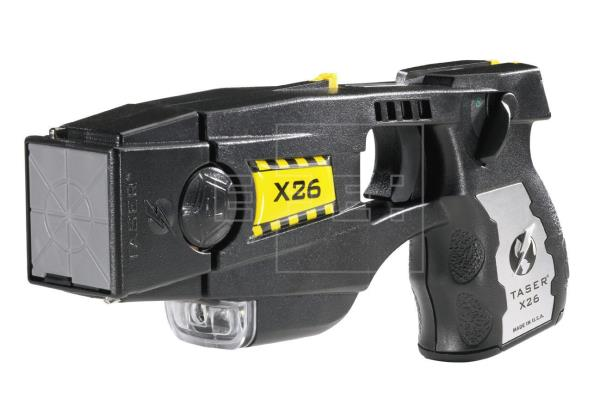Arma Falsa: (11, 54, 570, 362)
